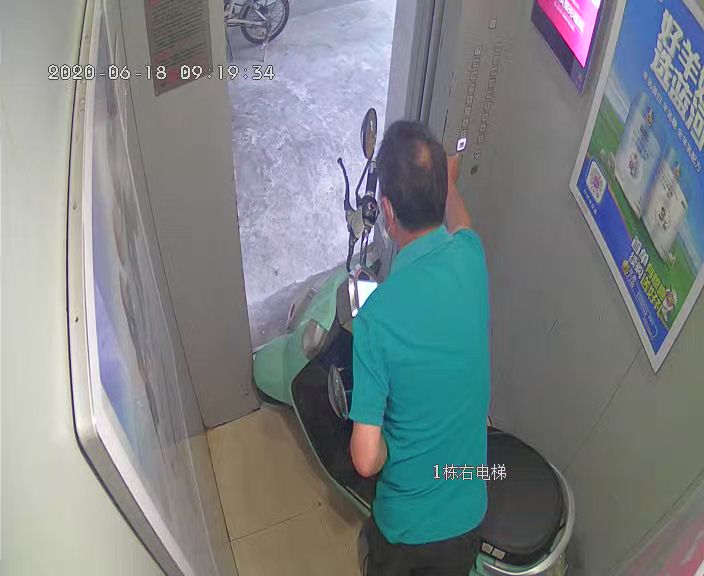Electric-bicycle: (254, 109, 578, 574)
